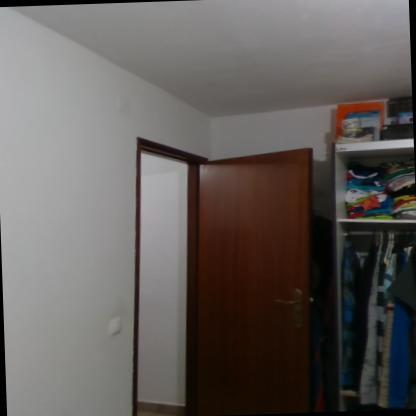open: (123, 124, 344, 415)
